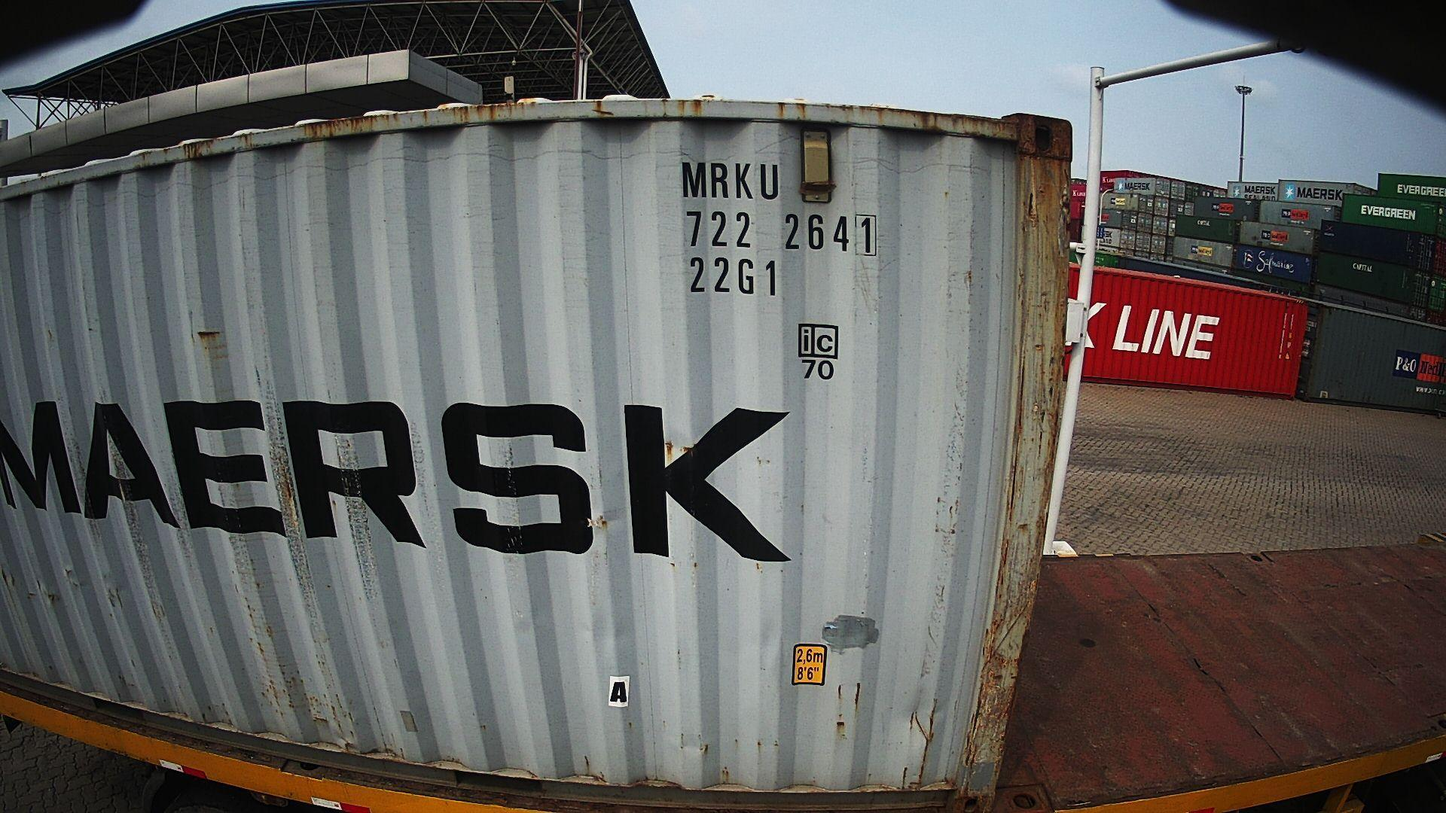container-numbers: (681, 207, 882, 259), (679, 159, 784, 205), (686, 254, 783, 300)
